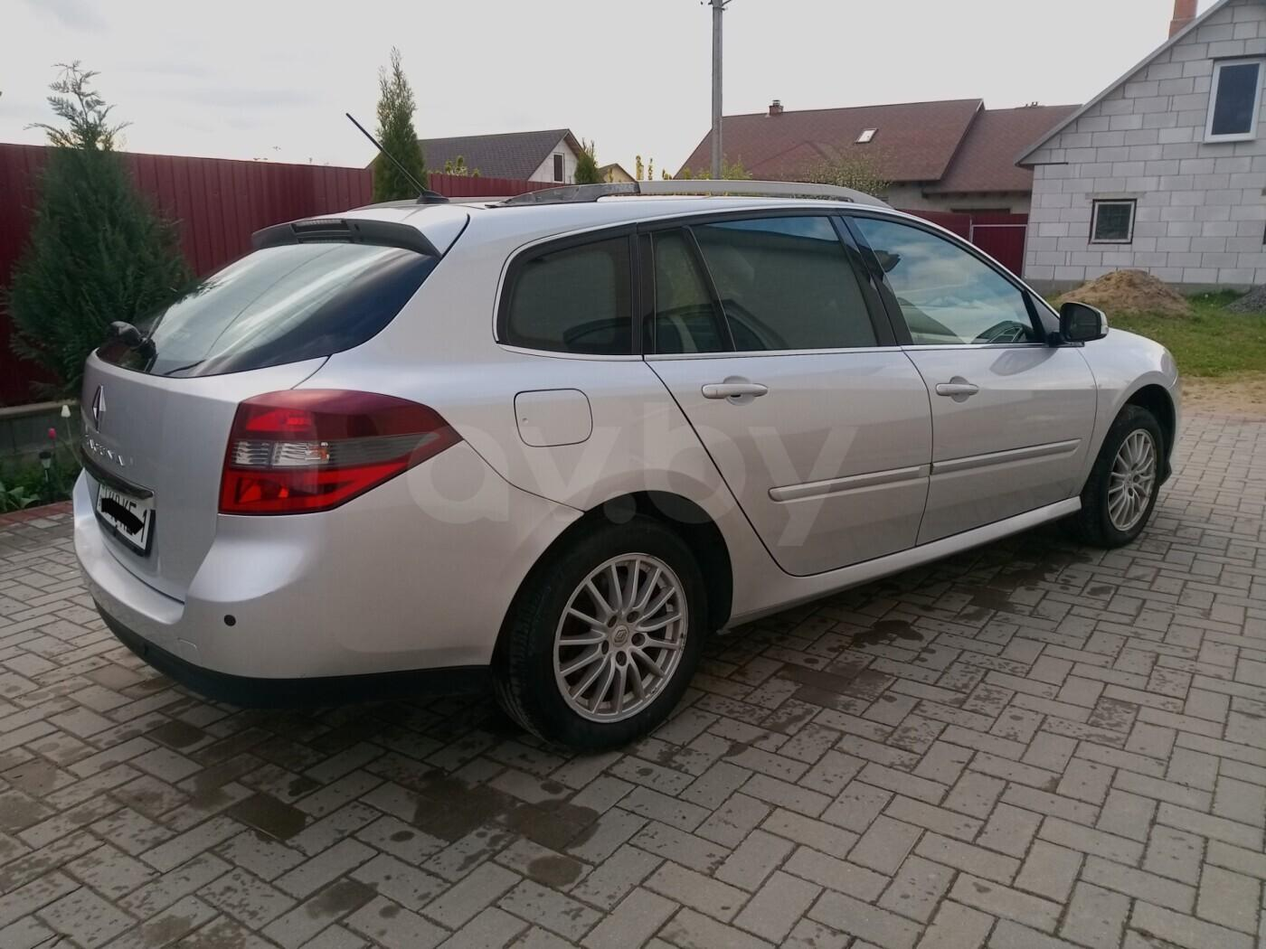Laguna_2010-2015: (54, 164, 1196, 751)
